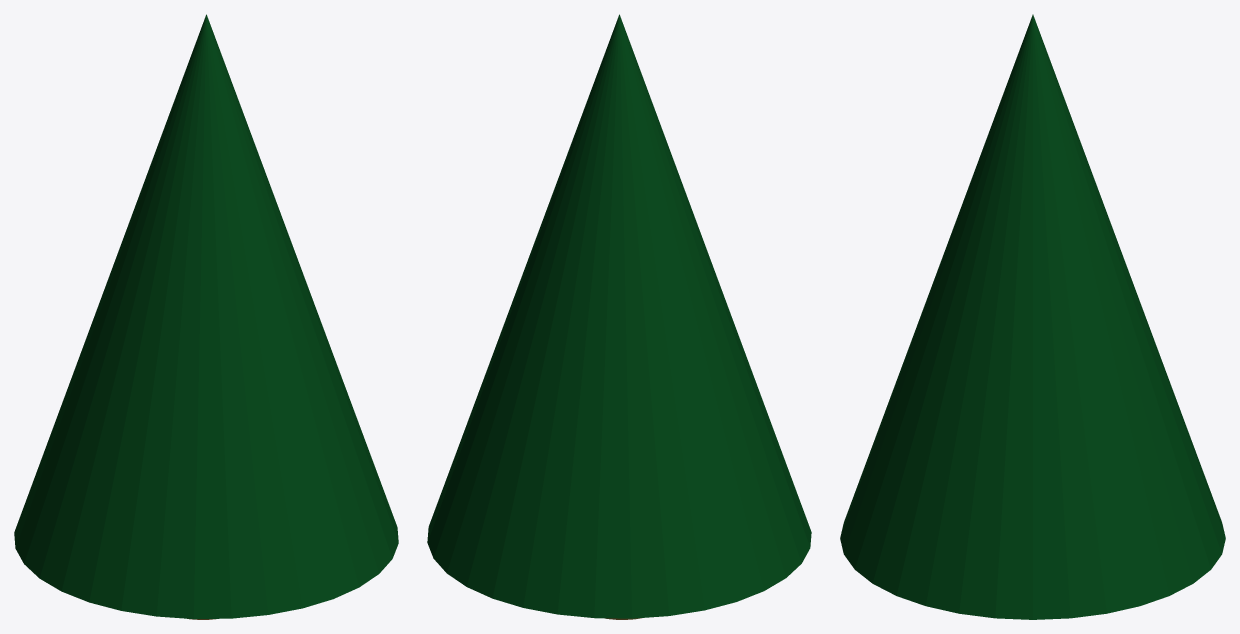
Rendered from ExportedBlenderFBXFile.fbx.
The picture shows the model from 3 angles, left to right: view 1: azimuth 30°, elevation 25°; view 2: azimuth 150°, elevation 25°; view 3: azimuth 270°, elevation 25°; orthographic projection.
Visible parts, largest first — view 1: Cone; view 2: Cone; view 3: Cone.
Boxes of the visible parts, bbox=[...] form: Cone: bbox=[14, 14, 398, 619]; Cone: bbox=[427, 14, 811, 618]; Cone: bbox=[840, 14, 1225, 619].
Bounding box in the file's own units: 2 × 3.35 × 2.
